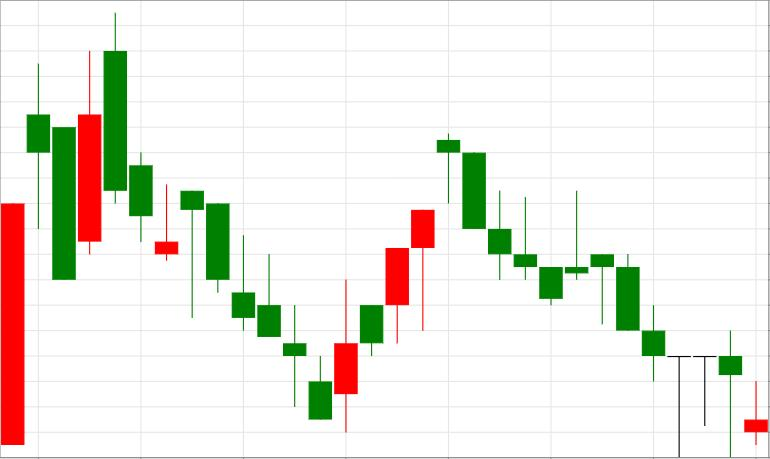bullish_engulfing_rise: (182, 191, 357, 433)
evening_star_fall: (335, 133, 486, 433)
hanging_man_fall: (309, 210, 435, 433)
